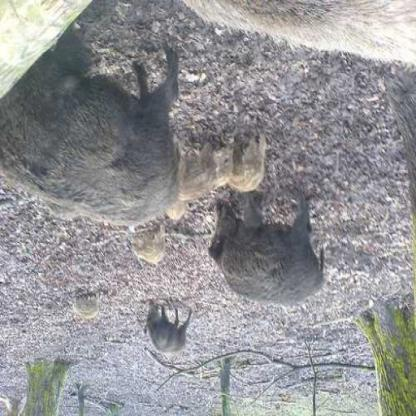boar: (193, 199, 357, 311)
